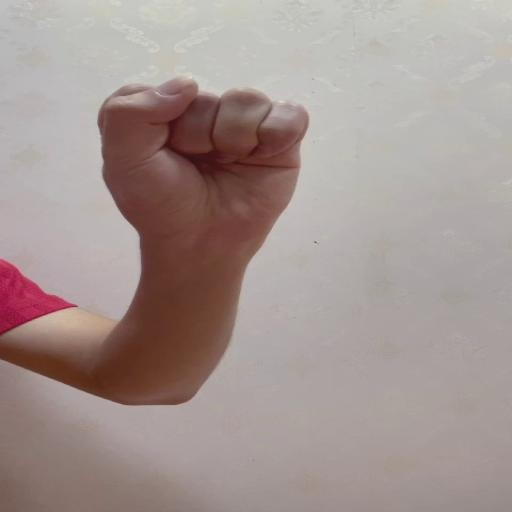fist: (96, 72, 311, 228)
